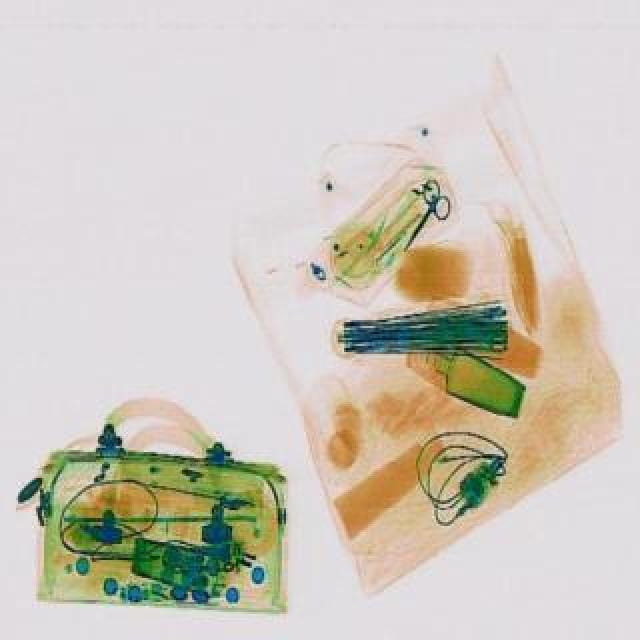pliers: (386, 174, 460, 258)
